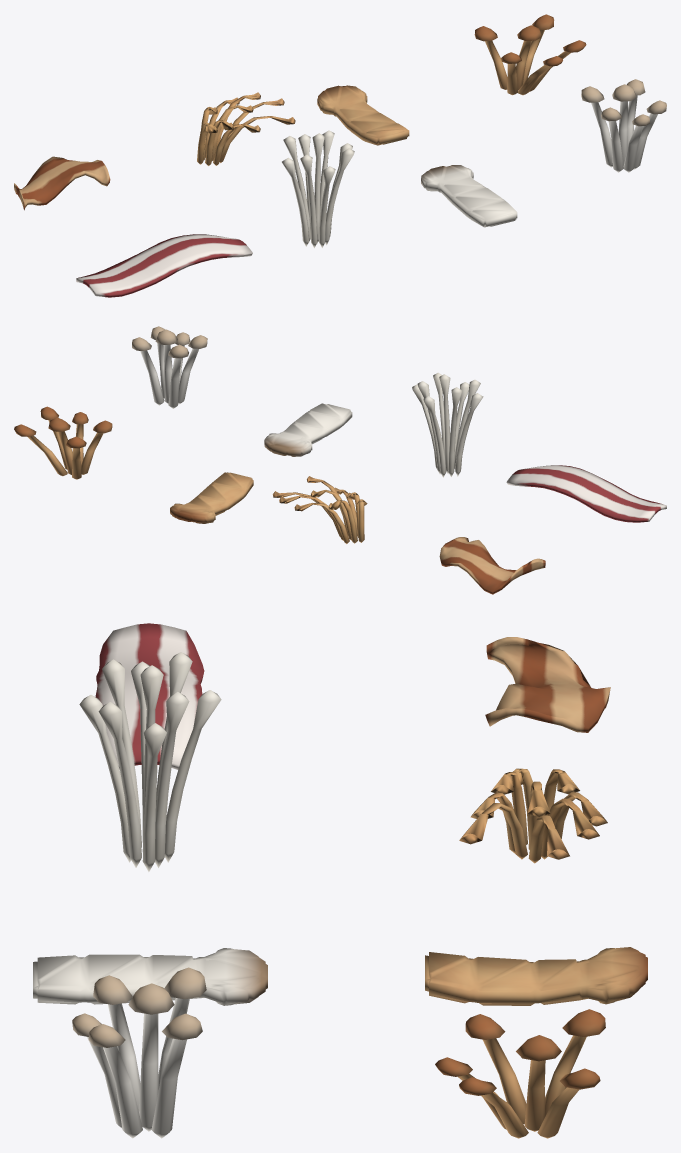
File: Phase2_MeatMushrooms_P1.glb
3 renders of one model, top to bottom at view 1: azimuth 30°, elevation 25°; view 2: azimuth 150°, elevation 25°; view 3: azimuth 270°, elevation 25°, orthographic. The views are drawn at different scales.
Parts seen in each view (by area): view 1: PorkBellySlice_Raw, Enoki_Raw, WhiteBeech_Raw, WhiteBeech_Cooked, KingOyster_Raw, KingOyster_Cooked, Enoki_Cooked, PorkBellySlice_Cooked; view 2: PorkBellySlice_Raw, Enoki_Raw, WhiteBeech_Raw, WhiteBeech_Cooked, PorkBellySlice_Cooked, KingOyster_Raw, KingOyster_Cooked, Enoki_Cooked; view 3: Enoki_Raw, WhiteBeech_Raw, KingOyster_Cooked, WhiteBeech_Cooked, KingOyster_Raw, PorkBellySlice_Cooked, Enoki_Cooked, PorkBellySlice_Raw.
Boxes of the visible parts, left/top/right/bottom form: PorkBellySlice_Raw: left=76, top=234, right=252, bottom=297; Enoki_Raw: left=282, top=130, right=354, bottom=248; WhiteBeech_Raw: left=581, top=79, right=666, bottom=172; WhiteBeech_Cooked: left=474, top=14, right=586, bottom=95; KingOyster_Raw: left=421, top=165, right=517, bottom=227; KingOyster_Cooked: left=317, top=85, right=409, bottom=145; Enoki_Cooked: left=197, top=92, right=295, bottom=165; PorkBellySlice_Cooked: left=14, top=156, right=110, bottom=210; PorkBellySlice_Raw: left=506, top=465, right=666, bottom=522; Enoki_Raw: left=412, top=372, right=483, bottom=477; WhiteBeech_Raw: left=132, top=326, right=207, bottom=408; WhiteBeech_Cooked: left=14, top=406, right=112, bottom=479; PorkBellySlice_Cooked: left=439, top=537, right=545, bottom=594; KingOyster_Raw: left=264, top=403, right=352, bottom=456; KingOyster_Cooked: left=170, top=472, right=253, bottom=523; Enoki_Cooked: left=272, top=476, right=367, bottom=543; Enoki_Raw: left=79, top=652, right=221, bottom=871; WhiteBeech_Raw: left=72, top=967, right=206, bottom=1138; KingOyster_Cooked: left=425, top=947, right=647, bottom=1005; WhiteBeech_Cooked: left=435, top=1009, right=605, bottom=1138; KingOyster_Raw: left=33, top=948, right=267, bottom=1005; PorkBellySlice_Cooked: left=485, top=637, right=610, bottom=732; Enoki_Cooked: left=459, top=768, right=607, bottom=863; PorkBellySlice_Raw: left=95, top=623, right=204, bottom=769.
Size of the model in its own units: 0.3849 by 0.0688 by 0.1911.
8 materials, 8 textured.
